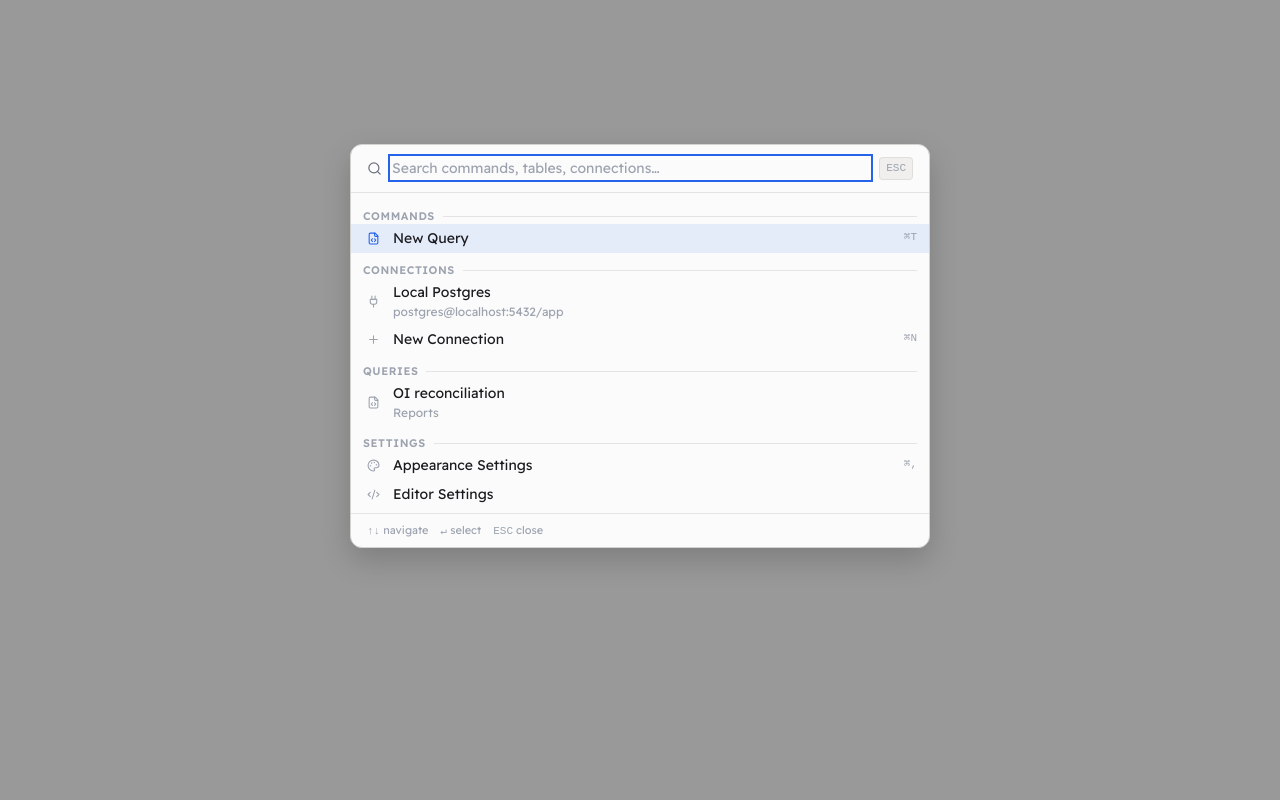
Test case: fuzzy matching › matches titles on a subsequence, not just a substring
The image size is (1280, 800).
In the field labelled "Search commands, tables, connections": (631, 168) [392,158,869,178], type "apst"
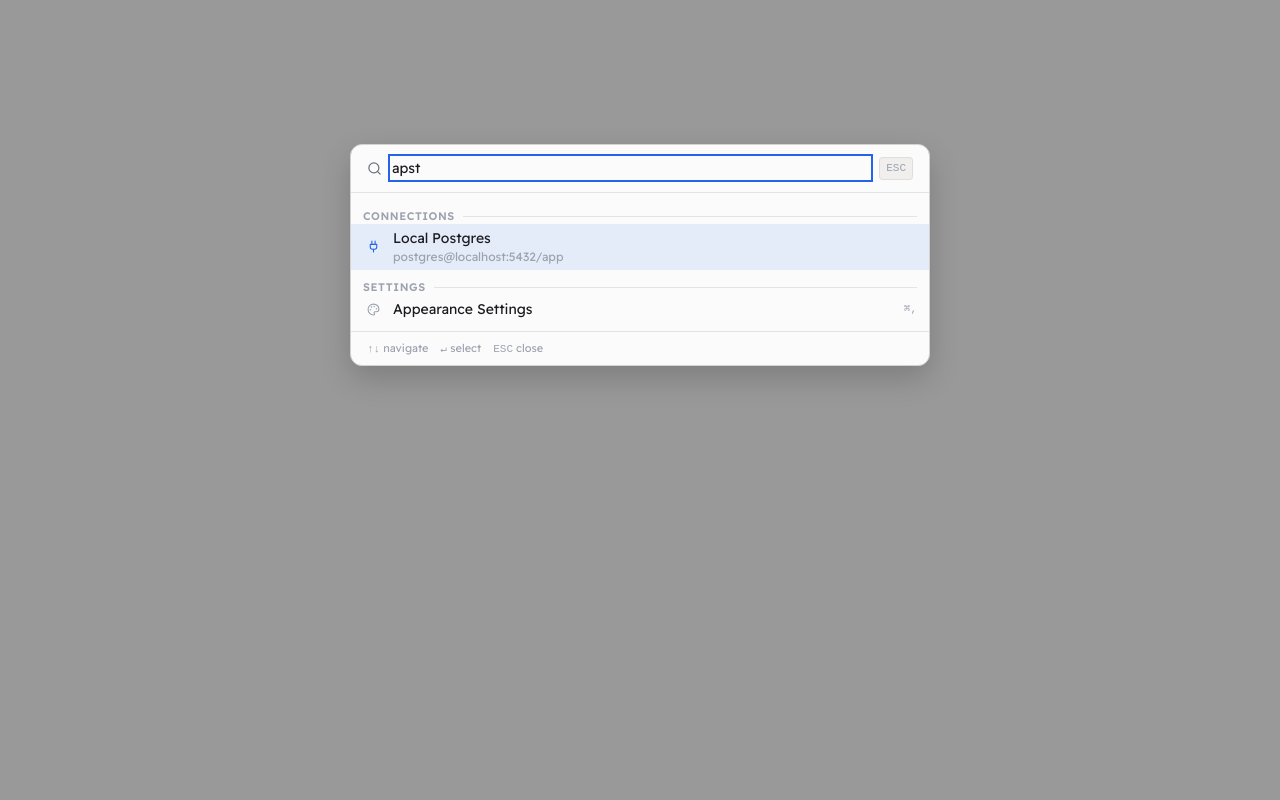
Expected: the text "Appearance Settings" is shown, [393,300,532,318]
Expected: the button "Editor Settings" no longer shows "Editor Settings"
